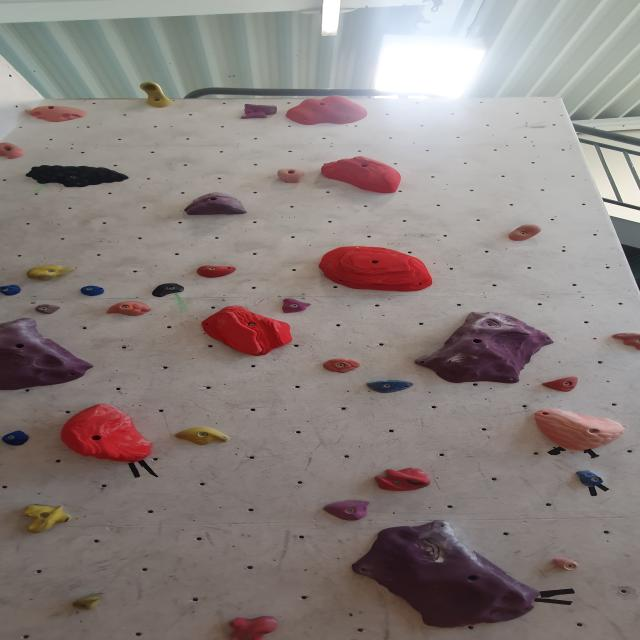Crimp: (349, 523, 538, 633), (414, 314, 554, 385), (0, 321, 94, 391), (171, 426, 234, 448), (322, 499, 373, 522), (239, 101, 282, 120), (105, 302, 153, 319), (364, 379, 418, 394), (539, 376, 580, 394), (320, 357, 363, 373), (70, 593, 105, 612), (196, 265, 239, 280), (571, 469, 605, 487), (547, 558, 582, 574), (280, 299, 312, 316), (34, 304, 62, 317), (0, 283, 23, 296), (81, 285, 107, 296)
Jug: (31, 165, 133, 187), (19, 505, 73, 535), (22, 104, 90, 125), (225, 616, 281, 640), (137, 81, 175, 110), (507, 222, 544, 242), (609, 332, 640, 354), (0, 141, 25, 160)
Pinch: (25, 264, 79, 282), (276, 167, 306, 184)
Pocket: (373, 467, 433, 491)
Sloper: (54, 406, 152, 464), (312, 249, 434, 293), (198, 308, 297, 357), (527, 410, 627, 452), (324, 158, 405, 196), (284, 95, 370, 126), (181, 190, 251, 216)
